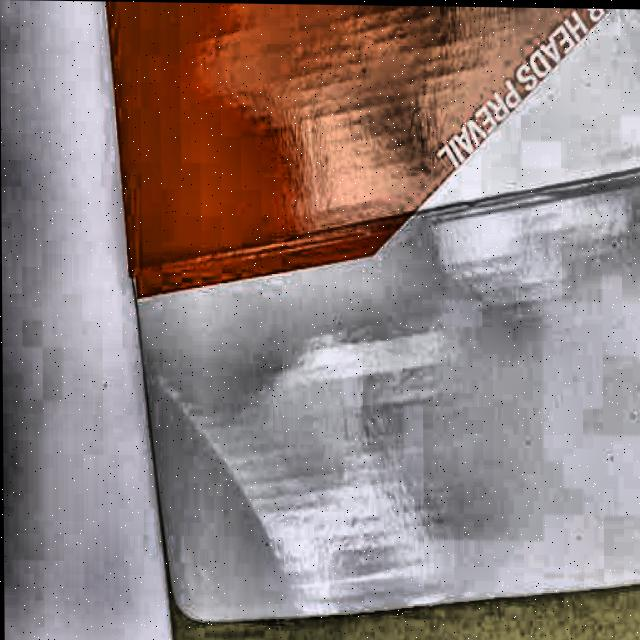cardboard: (101, 3, 640, 640)
